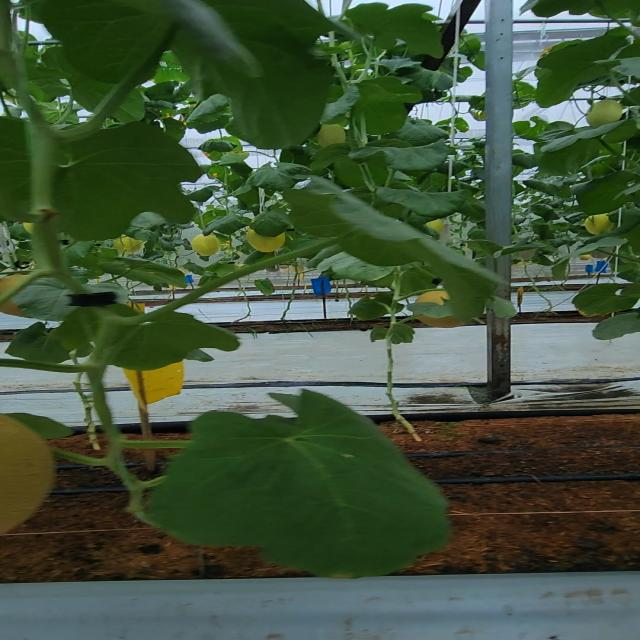Rear-melon: (589, 98, 624, 125), (194, 235, 219, 255), (588, 213, 608, 235)
